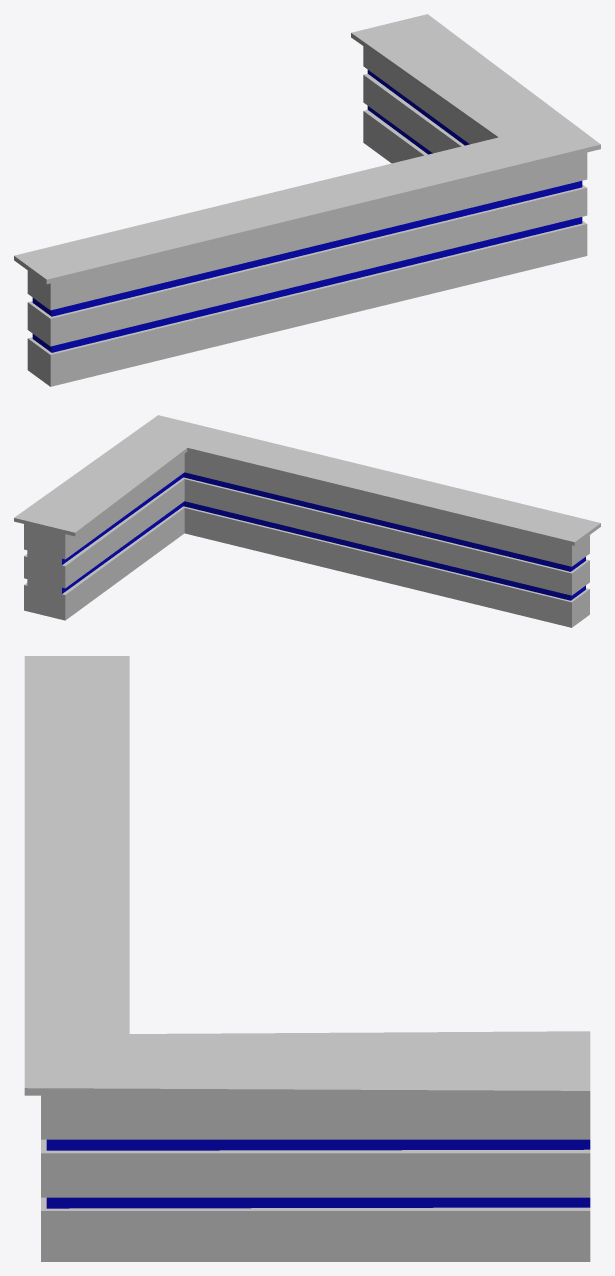
File: Bar counter.001.fbx
3 renders of one model, top to bottom at view 1: azimuth 30°, elevation 25°; view 2: azimuth 150°, elevation 25°; view 3: azimuth 270°, elevation 25°, orthographic. The views are drawn at different scales.
Parts seen in each view (by area): view 1: Bar counter.001; view 2: Bar counter.001; view 3: Bar counter.001.
Part boxes in pixels (x1,y1,x2,y2): Bar counter.001: [14, 14, 600, 386]; Bar counter.001: [14, 415, 600, 627]; Bar counter.001: [24, 656, 590, 1261].
Bounding box in the file's own units: 5.7 × 1.1 × 3.13.
